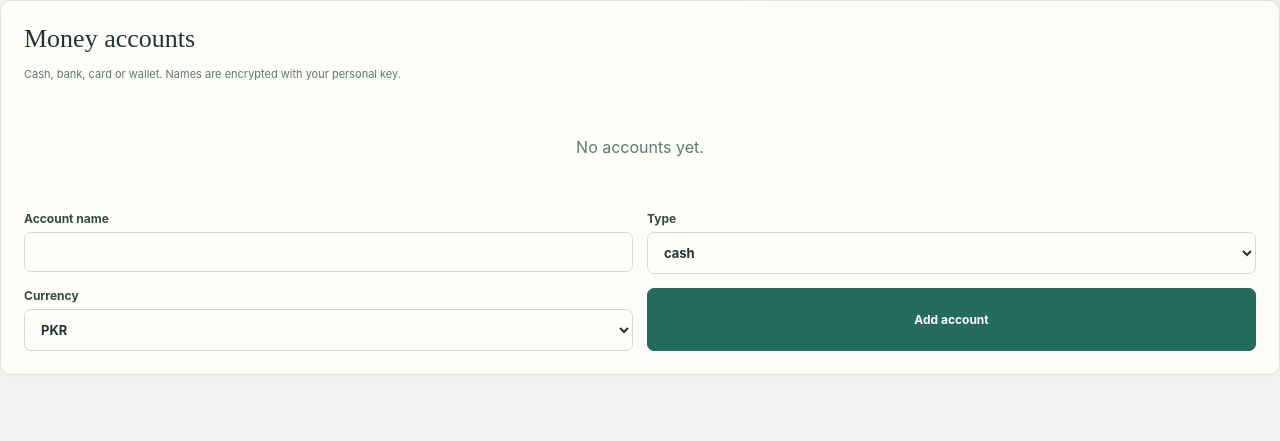
AccountsPanel › lists accounts and adds a new one
This screenshot has width=1280, height=441.
Expected: the text "No accounts yet." is shown, left=576, top=137, right=704, bottom=157
Type "HBL" into the field labelled "Account name".
click(328, 252); type("HBL")  # box left=24, top=232, right=633, bottom=272
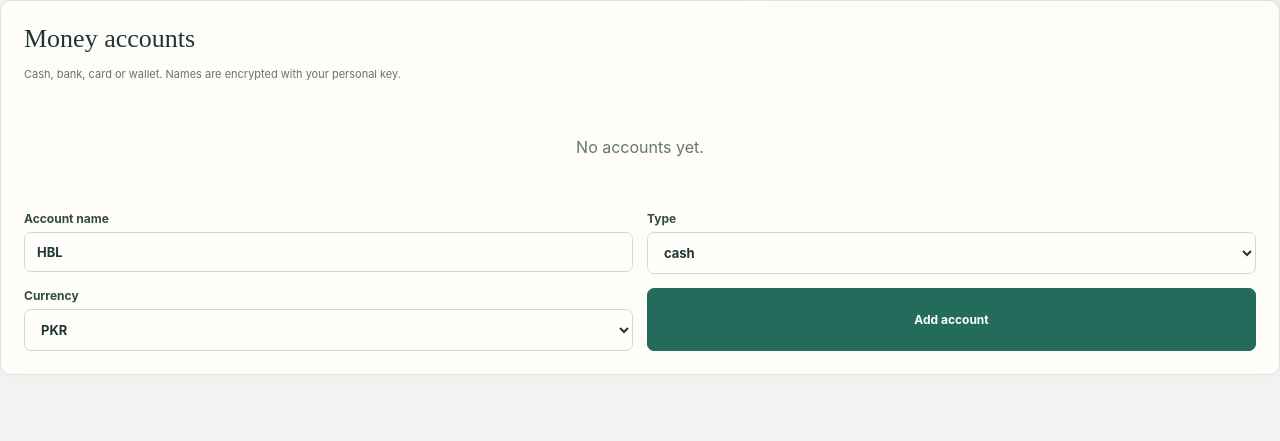
Select "bank" in the dropdown labelled "Type" at (952, 253), box left=647, top=232, right=1256, bottom=274
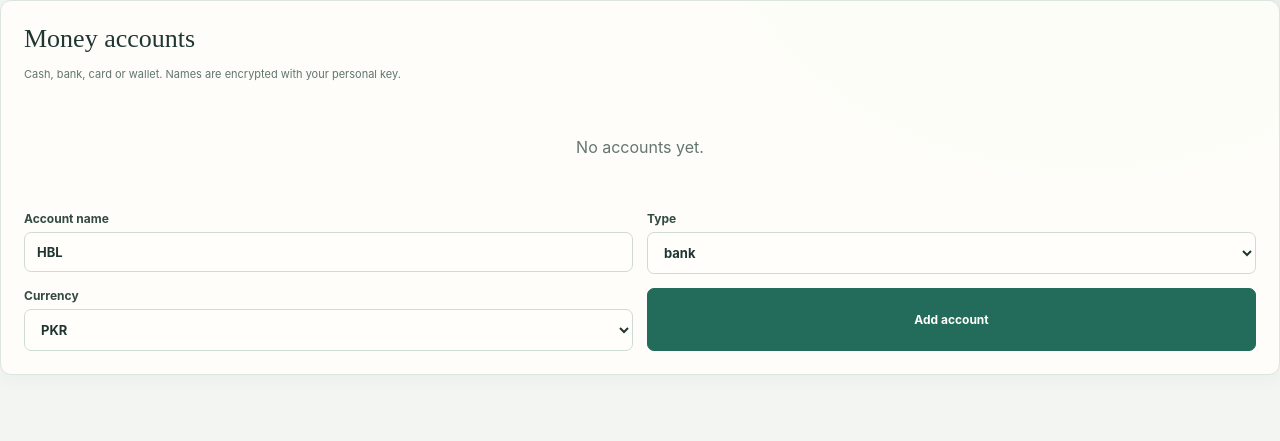
Click the button "Add account".
click(952, 319)  # box left=647, top=288, right=1256, bottom=351
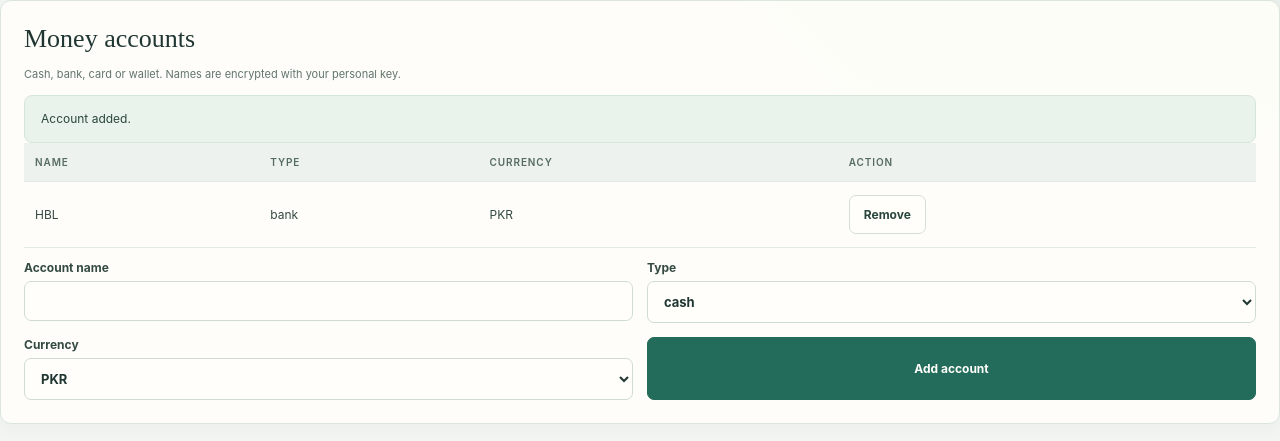
Expected: the text "HBL" is shown, left=24, top=182, right=259, bottom=248
